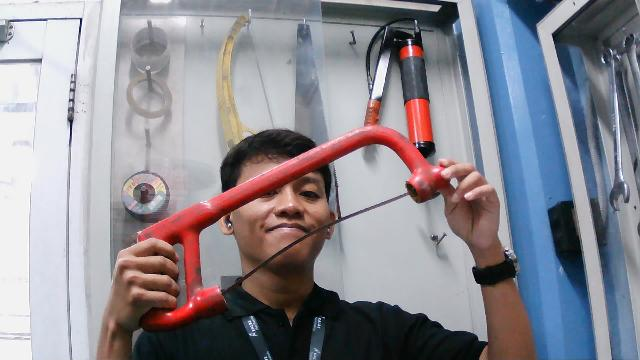gergaji_besi: (129, 123, 455, 335)
